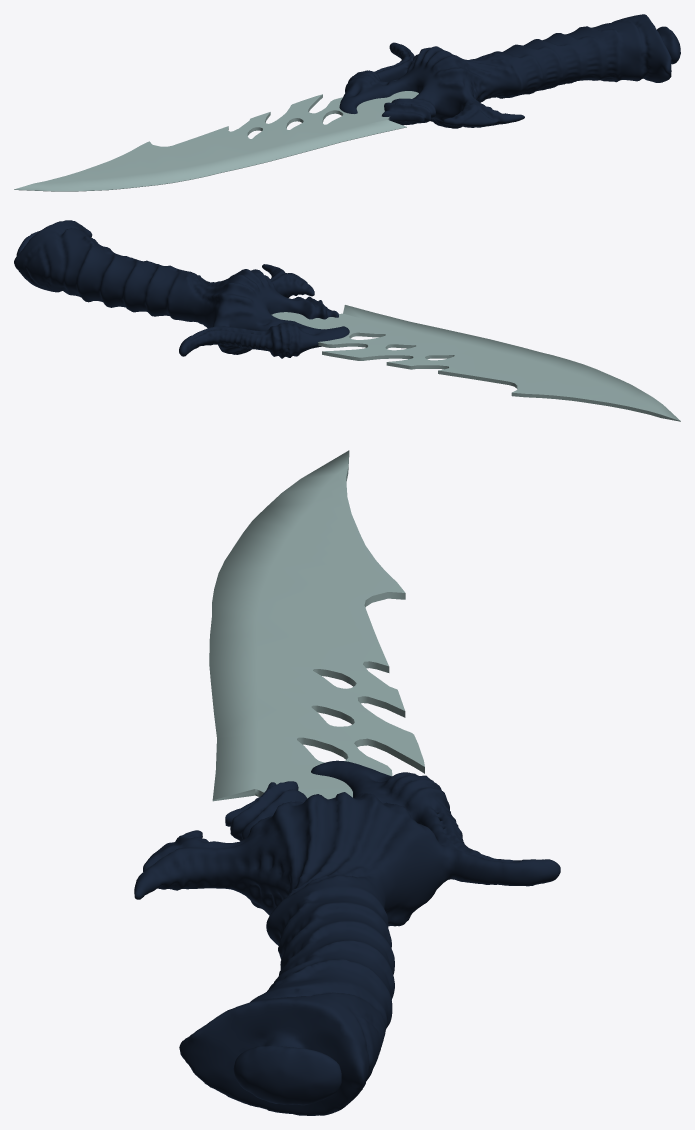
File: mag_knife.fbx
3 views of the same model, one above another, from view 1: azimuth 30°, elevation 25°; view 2: azimuth 150°, elevation 25°; view 3: azimuth 270°, elevation 25° (orthographic). The views are drawn at different scales.
Visible parts, largest first — view 1: Knife; view 2: Knife; view 3: Knife.
Part boxes in pixels (x1,y1,x2,y2): Knife: (14, 14, 680, 191); Knife: (14, 220, 680, 421); Knife: (134, 450, 560, 1115).
Bounding box in the file's own units: 1 × 0.1081 × 0.2863.
